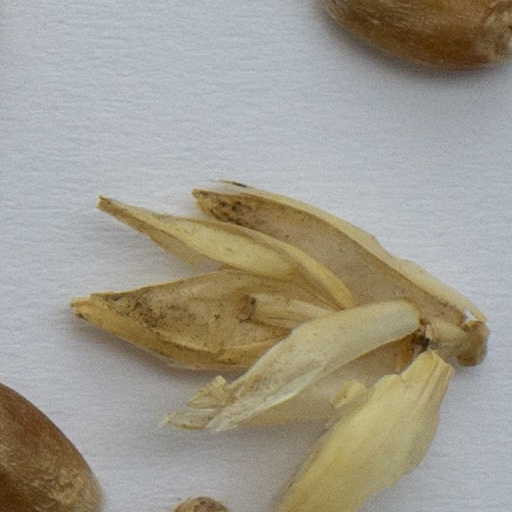Peel-poly: (69, 184, 486, 511)
